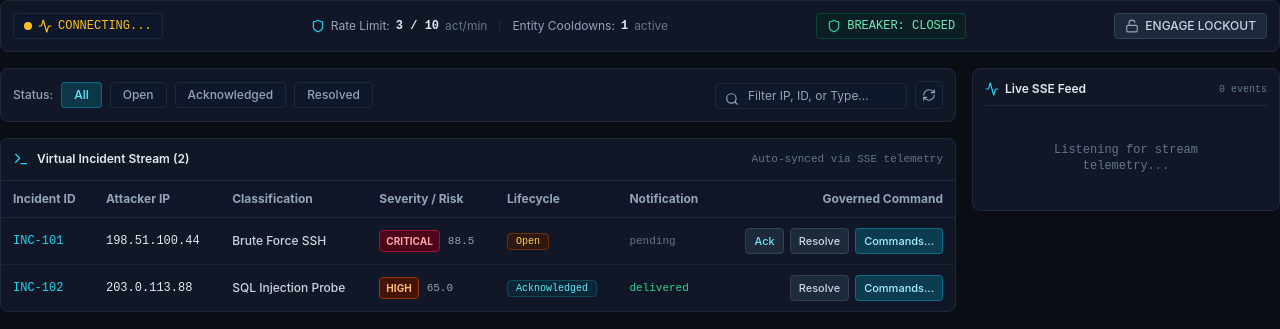
Test: Module 3.4 Live Incident Command & Governance Components › filters virtual incidents by search query in LiveCommandCenterView
Expected: the text "INC-101" is shown, [13, 232, 63, 248]
Type "SQL" into the field with placeholder "Filter IP, ID, or Type...". click: (811,96)
box: [715, 82, 907, 108]
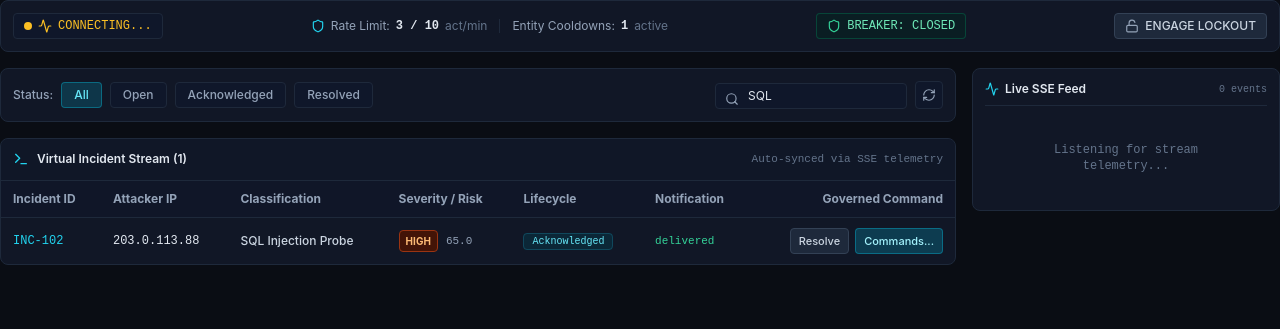
Expected: the text "INC-102" is shown, [13, 232, 63, 248]
Expected: the text "INC-101" is gone
